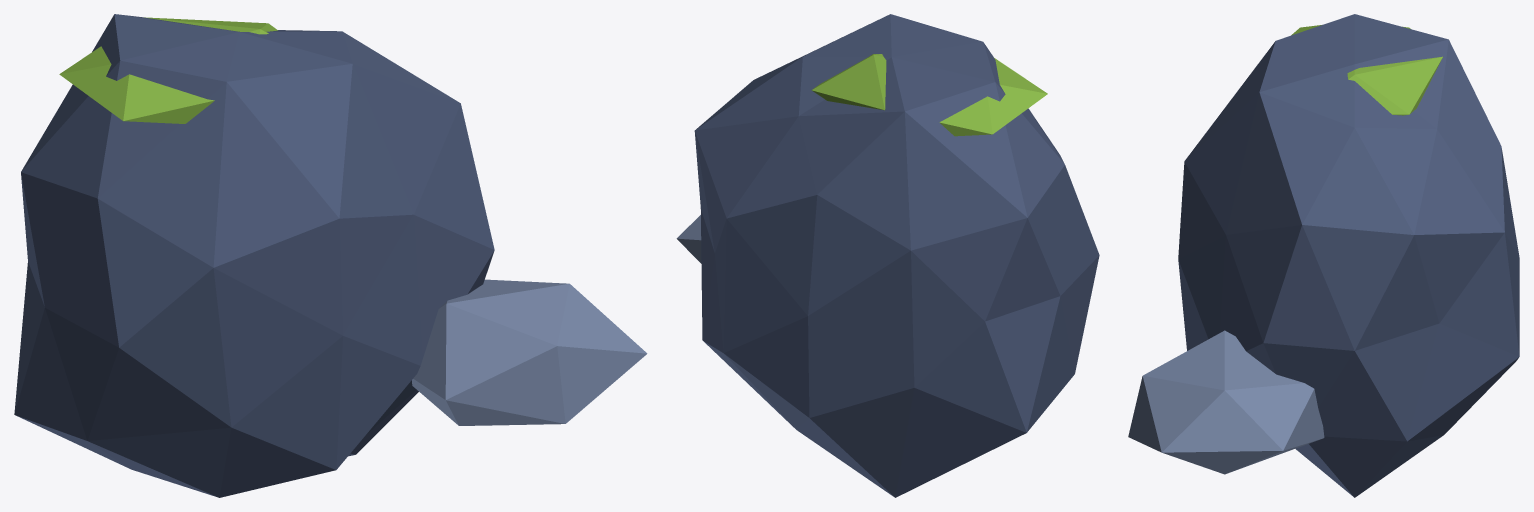
File: rock_2.glb
3 views of the same model, side by side, from view 1: azimuth 30°, elevation 25°; view 2: azimuth 150°, elevation 25°; view 3: azimuth 270°, elevation 25° (orthographic). The views are drawn at different scales.
Visible parts, largest first — view 1: rock_1_mesh; view 2: rock_1_mesh; view 3: rock_1_mesh.
Part boxes in pixels (bbox=[...]): rock_1_mesh: bbox=[14, 14, 647, 497]; rock_1_mesh: bbox=[676, 14, 1099, 497]; rock_1_mesh: bbox=[1128, 14, 1519, 497].
Size of the model in its own units: 1.11 by 0.9825 by 0.904.
